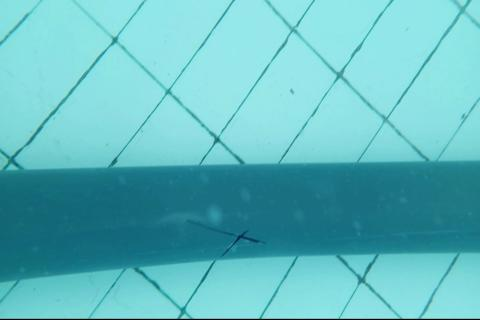keretakan: (186, 217, 266, 259)
